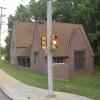traffic lights: (40, 36, 48, 52), (52, 33, 58, 53)
